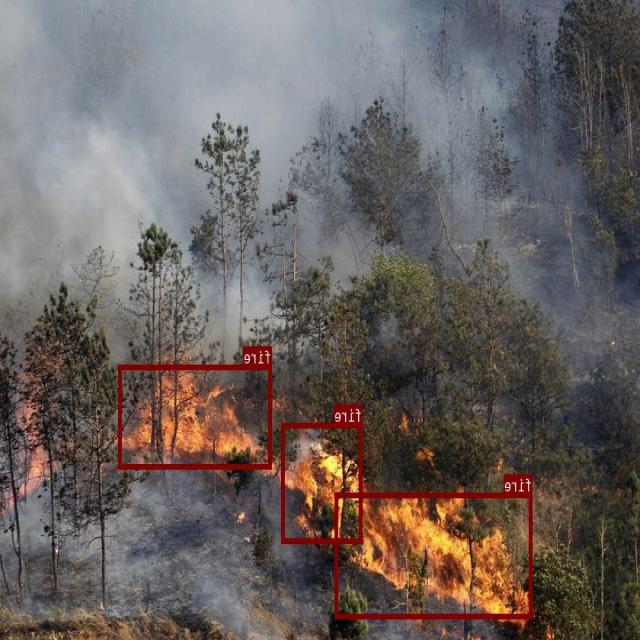fire: (335, 492, 533, 618), (119, 363, 273, 468), (282, 422, 363, 542)
